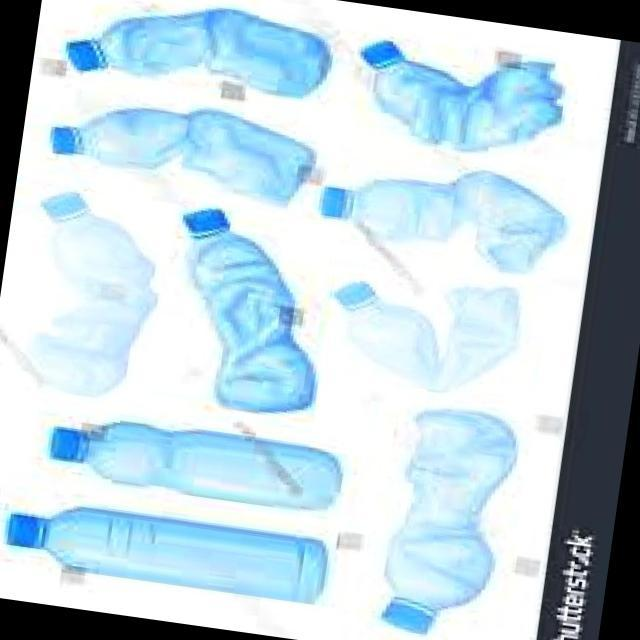defected: (343, 387, 546, 640), (154, 202, 342, 422), (0, 182, 178, 410), (313, 144, 571, 276), (50, 84, 329, 205), (55, 0, 343, 112), (347, 30, 572, 164), (321, 258, 531, 400)
good: (0, 479, 341, 606), (35, 403, 361, 525)
